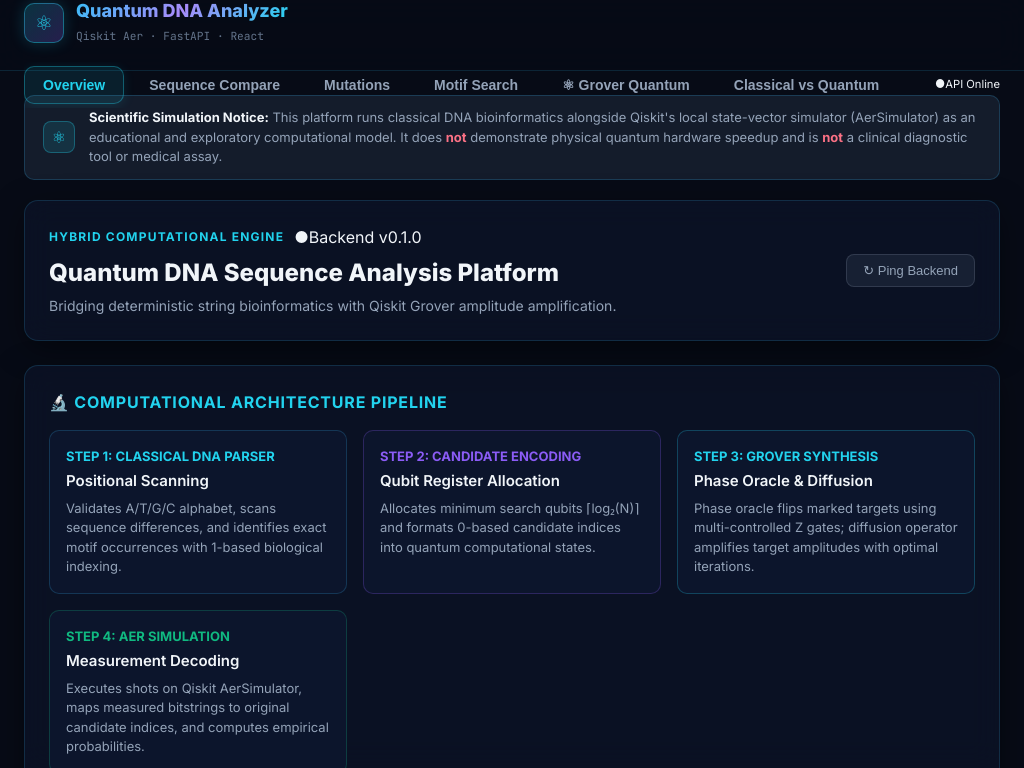
Test: Quantum DNA Sequence Analyzer App Integration › performs DNA sequence comparison and displays 1-based mutation positions
The width and height of the screenshot is (1024, 768).
# Go to Sequence Compare tab
Click the button "Sequence Compare": (215, 85) [130, 66, 299, 104]
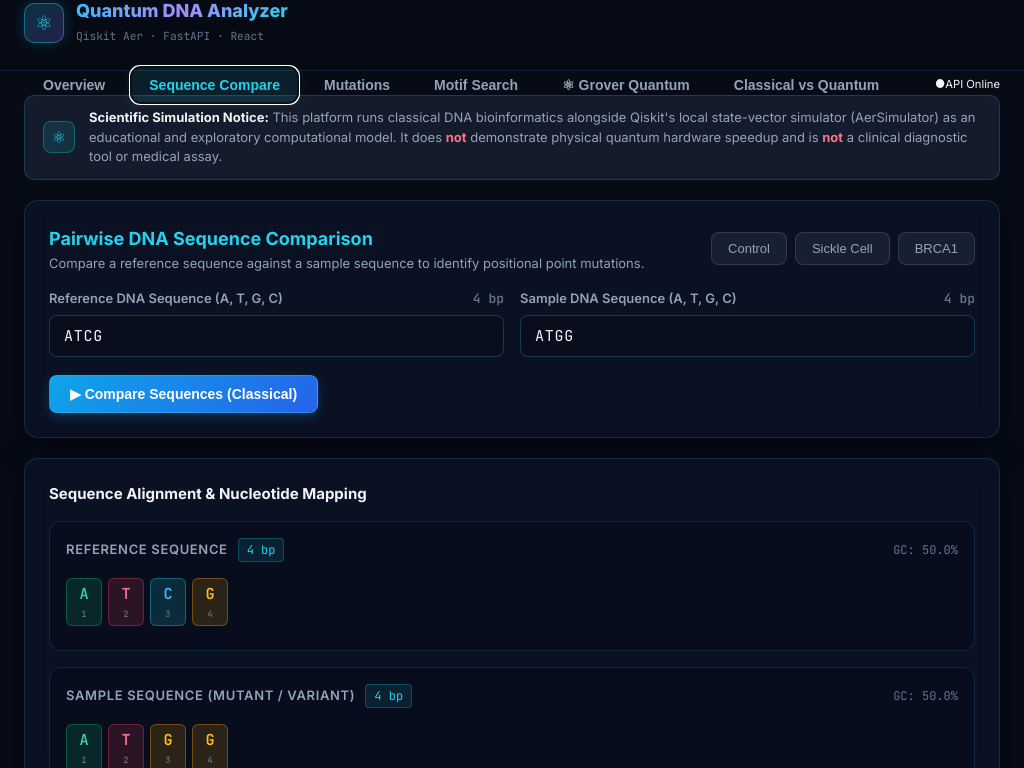
Click the button "▶ Compare Sequences (Classical)": (184, 394) [49, 374, 318, 412]
(page scrolled)
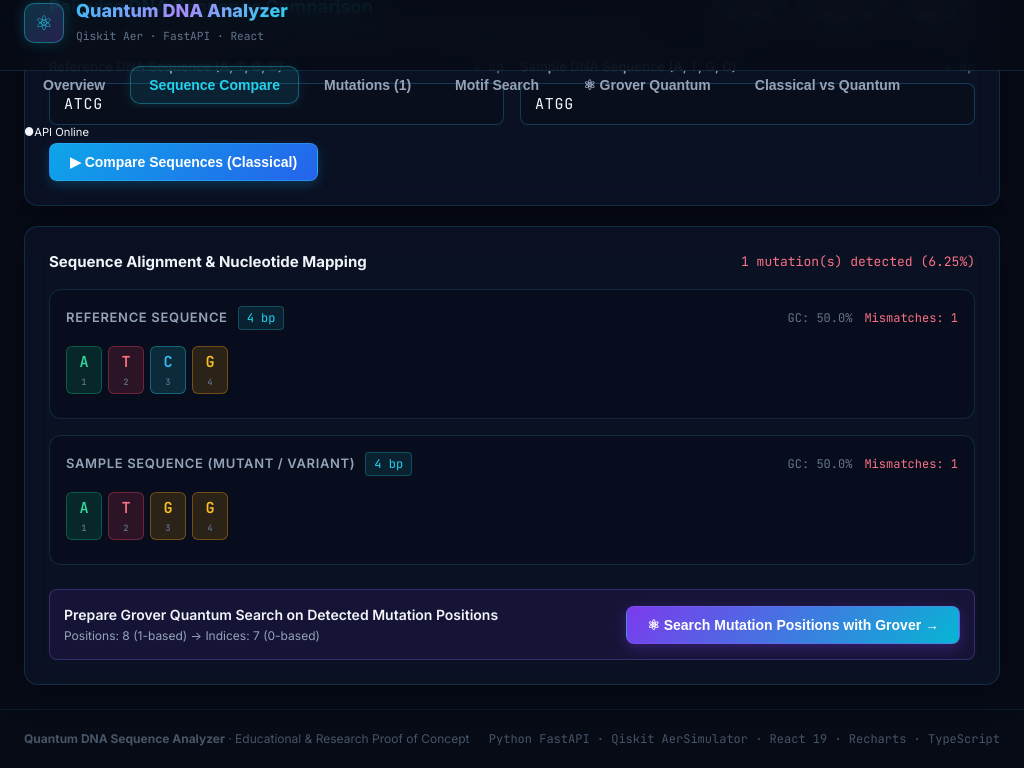
Expected: the text "1 mutation(s) detected (6.25%)" is shown, [741, 252, 975, 272]
Expected: the button "⚛ Search Mutation Positions with Grover →" is shown, [626, 606, 960, 644]
